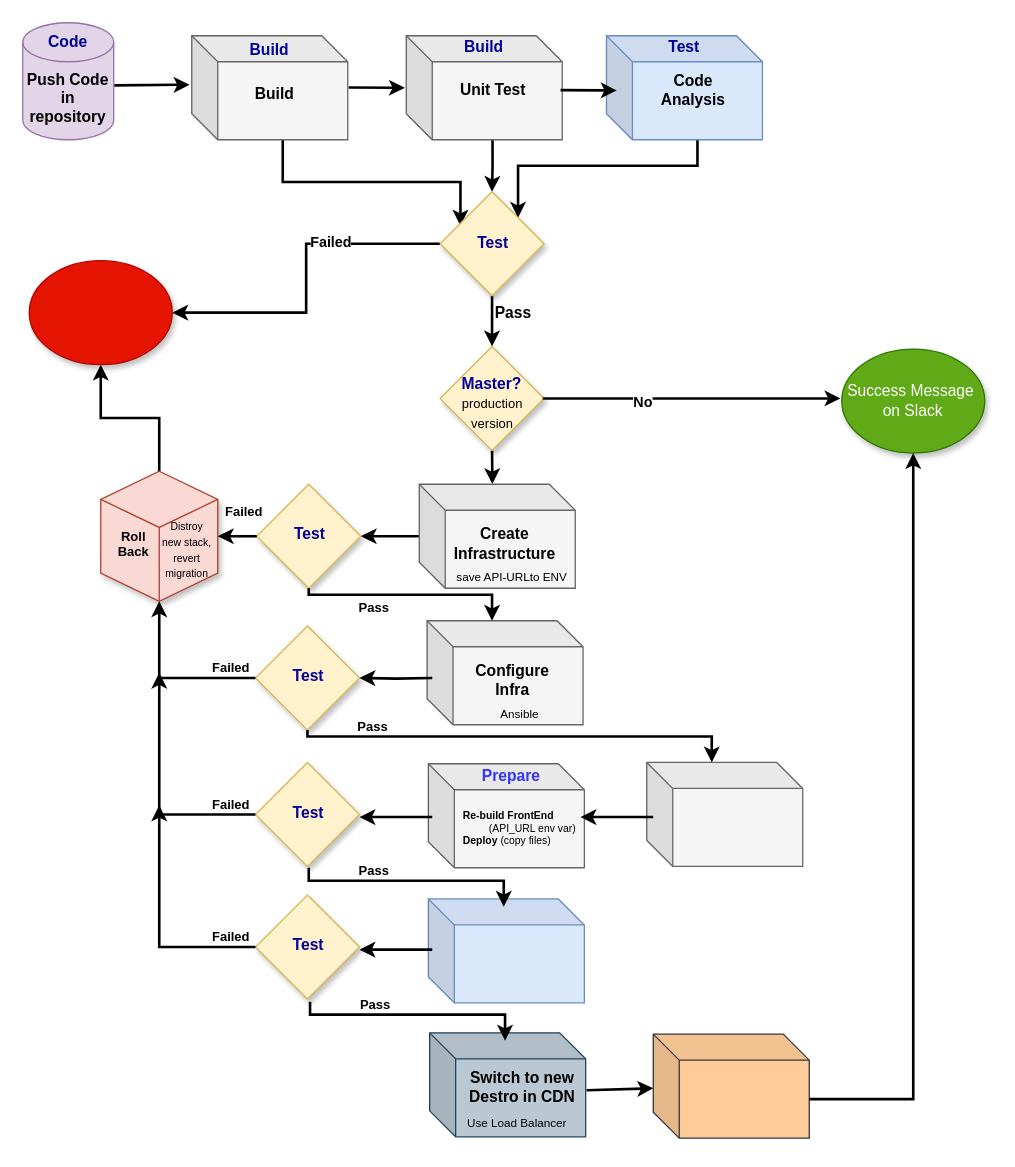
The diagram is 1015 pixels wide and 1167 high, and some of its shapes have lost their labels. The shapes that lost their labels are listed below. From the top down, each one's centre as x and y in pixels, then its label:
At (x=101, y=314): "Failure Alert on Slack".
At (x=724, y=813): "Migrate DB".
At (x=505, y=950): "Smoke Test".
At (x=730, y=1085): "Distroy Old Stack".
